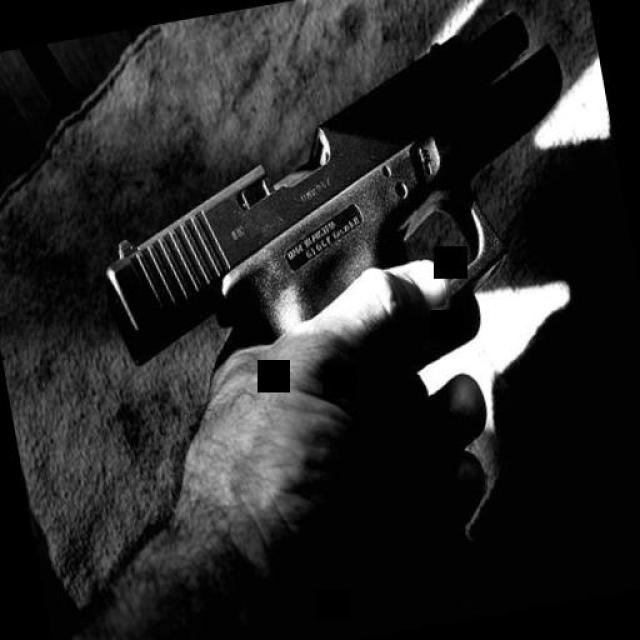gun: (58, 0, 616, 395)
